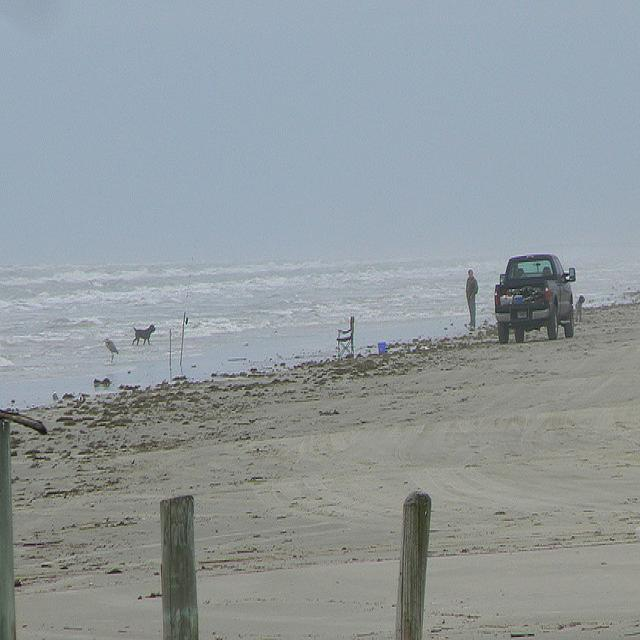Vehicle: (495, 254, 576, 344)
